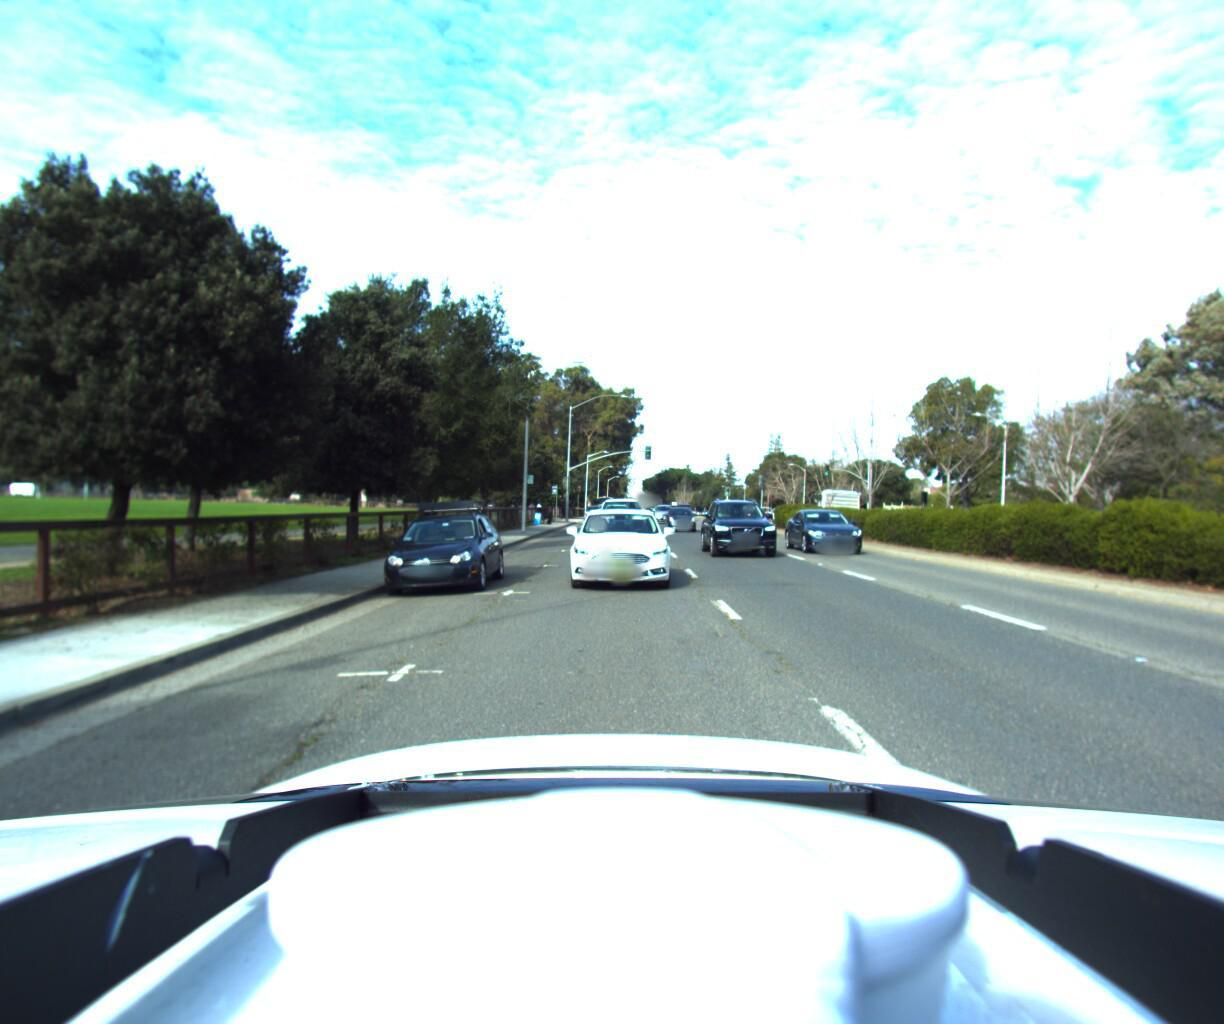car: (376, 492, 507, 599), (565, 497, 671, 589), (702, 491, 787, 560), (785, 502, 879, 554), (591, 493, 641, 538), (663, 502, 703, 533), (651, 505, 676, 524)
truck: (806, 470, 894, 531), (876, 500, 940, 533)
